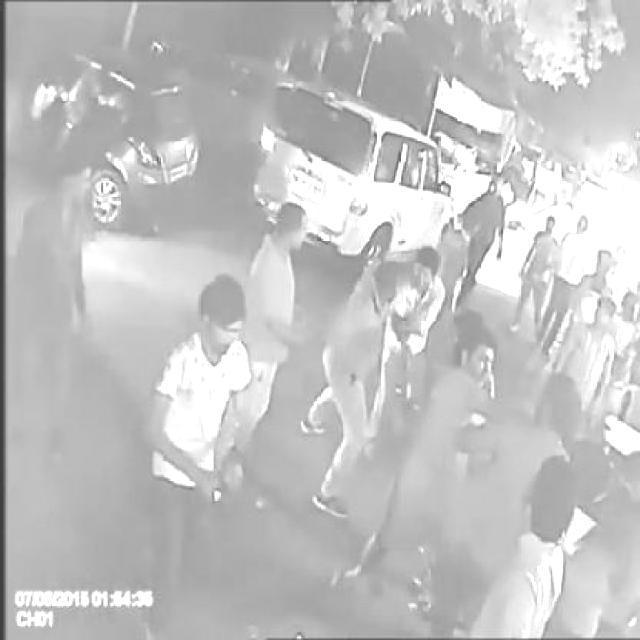fight: (326, 248, 442, 442)
